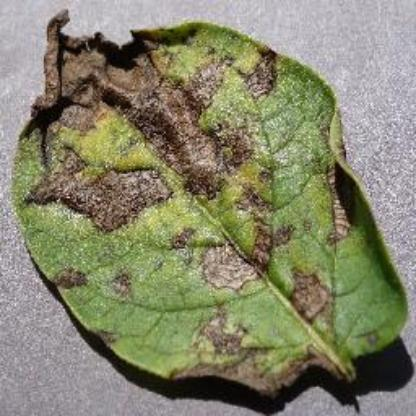Early-Blight: (11, 6, 413, 408)
